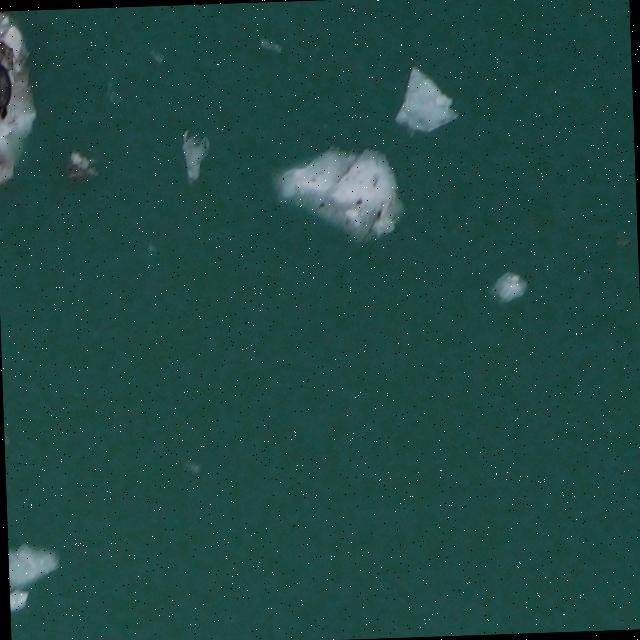seal: (0, 48, 14, 121)
